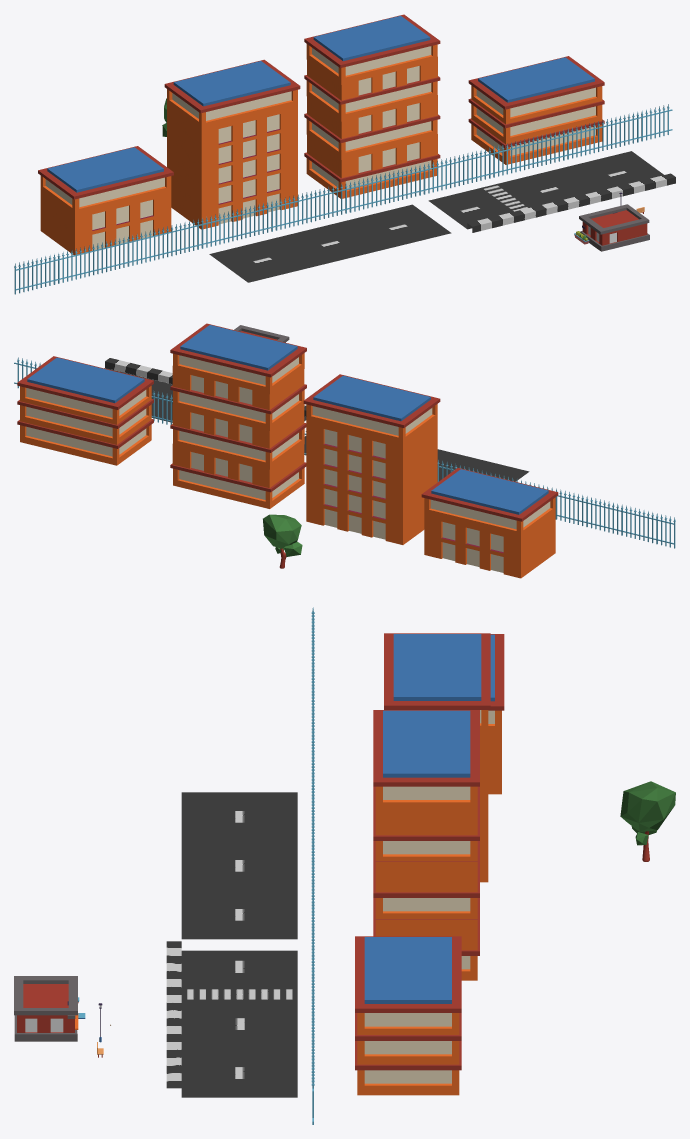
Rendered from Week 10 Export.fbx.
3 renders of one model, top to bottom at view 1: azimuth 30°, elevation 25°; view 2: azimuth 150°, elevation 25°; view 3: azimuth 270°, elevation 25°, orthographic. The views are drawn at different scales.
Visible parts, largest first — view 1: Building.003, Building, Building.001, Fence.002, Building.002, Road with cross walk, Road, House; view 2: Building.003, Building, Building.001, Building.002, Fence.002, Road with cross walk, Road, Tree.002; view 3: Building.003, Road with cross walk, Road, Building.002, Building, House, Tree.002, Building.001, Fence.002.
Boxes of the visible parts, x1,y1,x2,y2 form: Building.003: [304, 14, 440, 198]; Building: [164, 59, 300, 229]; Building.001: [38, 146, 173, 254]; Fence.002: [14, 104, 672, 294]; Building.002: [468, 56, 604, 164]; Road with cross walk: [428, 151, 675, 232]; Road: [209, 204, 451, 282]; House: [579, 204, 649, 251]; Building.003: [170, 323, 306, 508]; Building: [303, 374, 440, 544]; Building.001: [421, 468, 558, 578]; Building.002: [17, 356, 153, 465]; Fence.002: [14, 357, 675, 548]; Road with cross walk: [104, 358, 306, 422]; Road: [304, 436, 529, 481]; Tree.002: [263, 514, 302, 568]; Building.003: [373, 710, 479, 980]; Road with cross walk: [166, 941, 297, 1097]; Road: [181, 792, 297, 939]; Building.002: [355, 936, 461, 1095]; Building: [384, 633, 490, 882]; House: [14, 976, 85, 1041]; Tree.002: [620, 781, 675, 861]; Building.001: [488, 634, 504, 794]; Fence.002: [311, 607, 314, 1124].
Bounding box in the file's own units: 11634 × 2327 × 6852.
